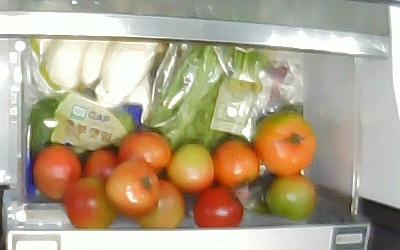tomato: (253, 110, 317, 178), (105, 159, 160, 218), (61, 174, 116, 228), (32, 145, 82, 200), (116, 130, 172, 175), (137, 179, 185, 229), (166, 143, 214, 192), (266, 175, 316, 221), (213, 138, 259, 187), (193, 185, 245, 228), (85, 149, 121, 184)
